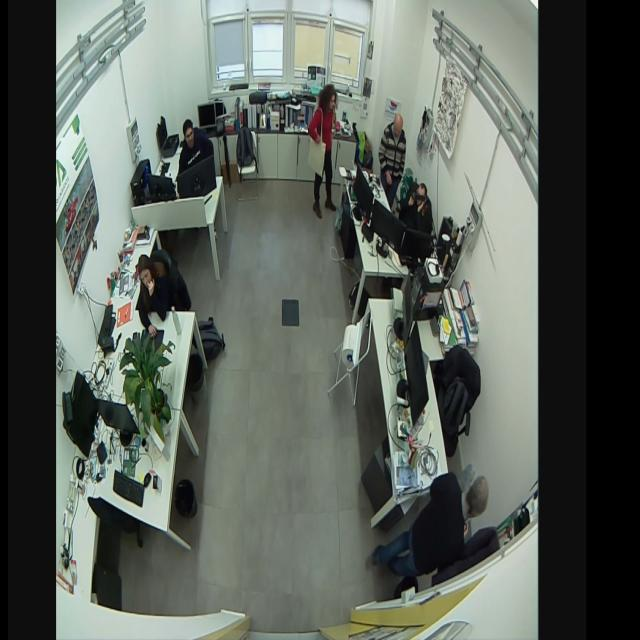Persona: (370, 467, 490, 582), (307, 81, 341, 220), (136, 248, 173, 341), (378, 111, 408, 199), (178, 116, 214, 175)
